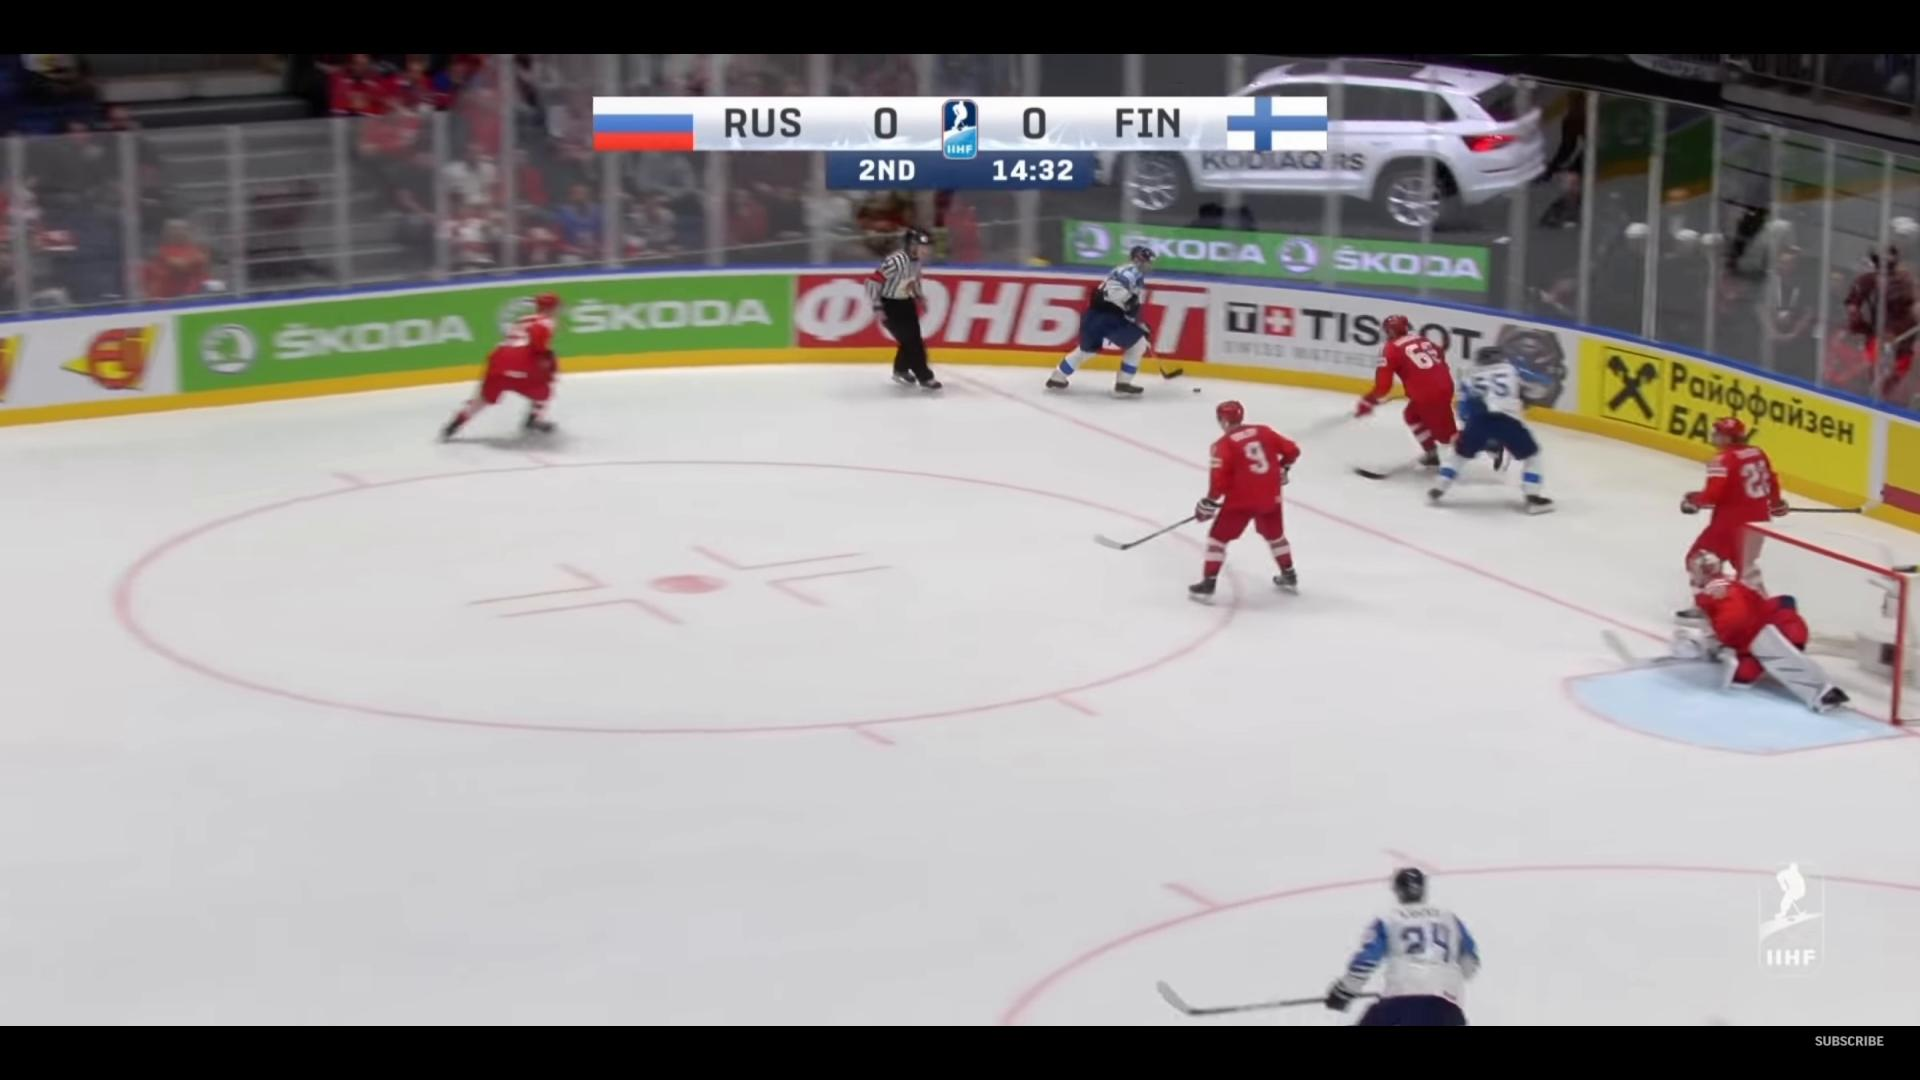puck: (1192, 386, 1202, 392)
